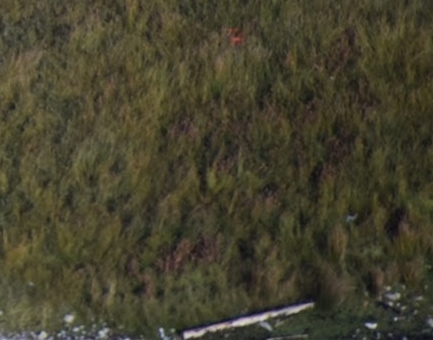straight_bar: (172, 294, 320, 340)
white_in_green: (212, 17, 256, 53)
